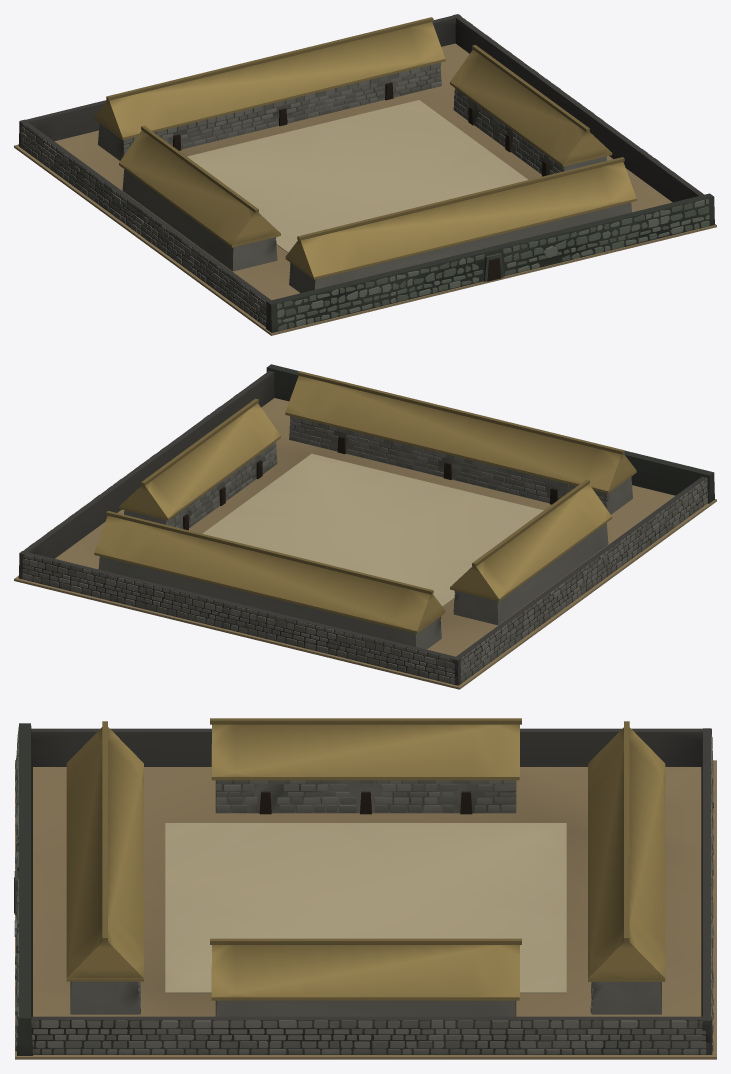
File: hatun-rumiyoc.glb
3 renders of one model, top to bottom at view 1: azimuth 30°, elevation 25°; view 2: azimuth 150°, elevation 25°; view 3: azimuth 270°, elevation 25°, orthographic. The views are drawn at different scales.
Visible parts, largest first — view 1: p1_walls, p2_roofs, p0_ground; view 2: p1_walls, p2_roofs, p0_ground; view 3: p1_walls, p2_roofs, p0_ground.
Boxes of the visible parts, x1=… form: p1_walls: x1=18, y1=14, x2=714, y2=332; p2_roofs: x1=94, y1=17, x2=636, y2=279; p0_ground: x1=14, y1=43, x2=716, y2=335; p1_walls: x1=18, y1=364, x2=714, y2=685; p2_roofs: x1=94, y1=371, x2=636, y2=633; p0_ground: x1=14, y1=398, x2=716, y2=689; p1_walls: x1=14, y1=723, x2=713, y2=1055; p2_roofs: x1=66, y1=718, x2=665, y2=1000; p0_ground: x1=15, y1=760, x2=716, y2=1059.
Bounding box in the file's own units: 70 × 8.99 × 70.1.
